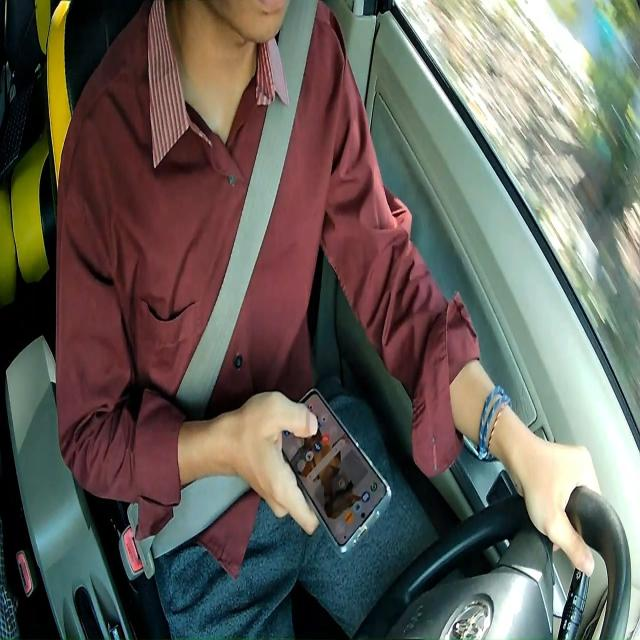phone: (282, 389, 393, 558)
